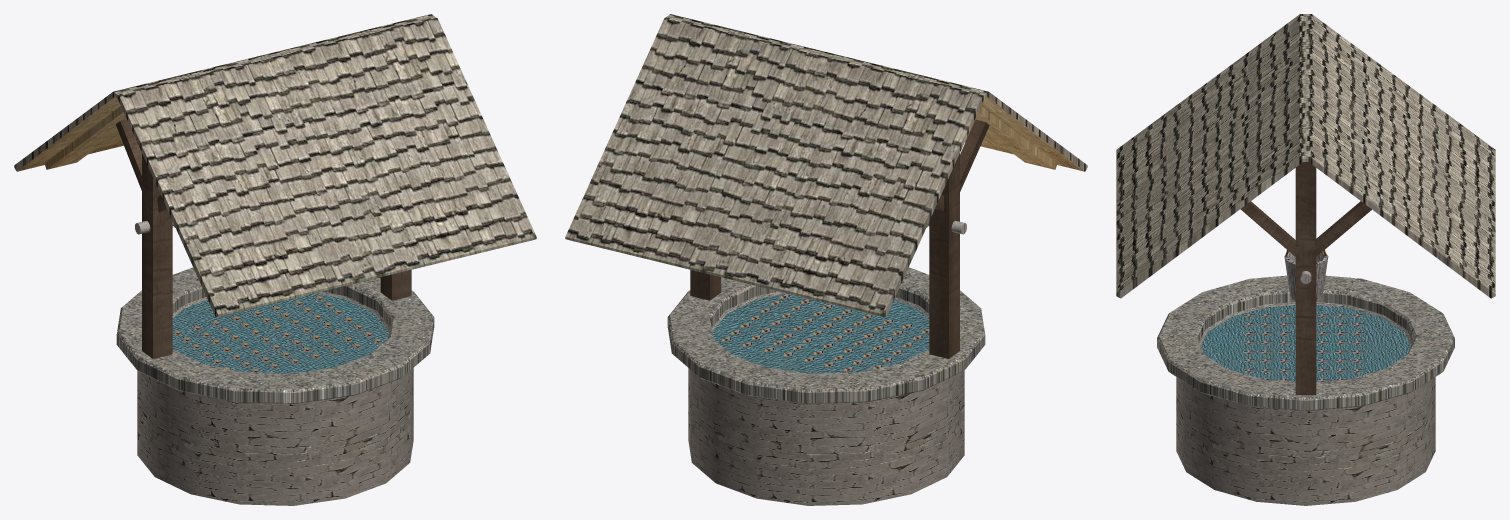
Rendered from well_01.fbx.
The picture shows the model from 3 angles, left to right: view 1: azimuth 30°, elevation 25°; view 2: azimuth 150°, elevation 25°; view 3: azimuth 270°, elevation 25°; orthographic projection. The views are drawn at different scales.
Parts seen in each view (by area): view 1: wellRoof2, wellBase, sidePole3, sidePole, sidePole4; view 2: wellRoof2, wellBase, sidePole3, sidePole5, sidePole; view 3: wellRoof2, wellBase, sidePole, sidePole1, sidePole2, bucket.
Boxes of the visible parts, box(x1,y1,x2,y2) form: wellRoof2: box(14, 14, 536, 317); wellBase: box(116, 267, 434, 505); sidePole3: box(142, 153, 172, 358); sidePole: box(380, 270, 411, 300); sidePole4: box(115, 119, 141, 190); wellRoof2: box(565, 14, 1087, 317); wellBase: box(667, 267, 985, 505); sidePole3: box(929, 153, 959, 358); sidePole5: box(960, 119, 989, 191); sidePole: box(690, 270, 721, 300); wellRoof2: box(1116, 14, 1495, 298); wellBase: box(1157, 275, 1454, 505); sidePole: box(1295, 162, 1316, 395); sidePole1: box(1316, 201, 1371, 256); sidePole2: box(1240, 201, 1295, 256); bucket: box(1284, 251, 1328, 301).
Size of the model in its own units: 2.44 by 2.87 by 2.71.
